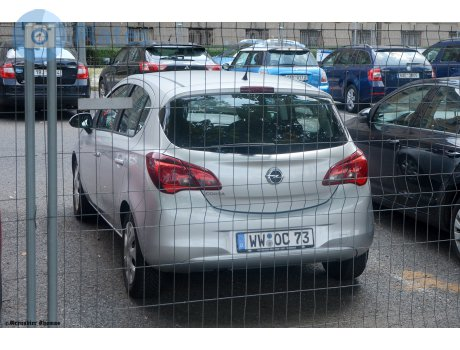License Plates: (242, 233, 312, 245)
